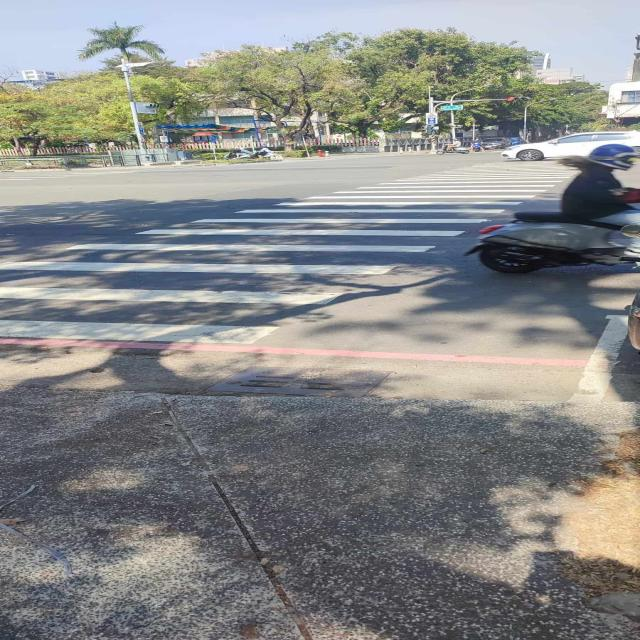zebra crossing: (0, 159, 575, 341)
